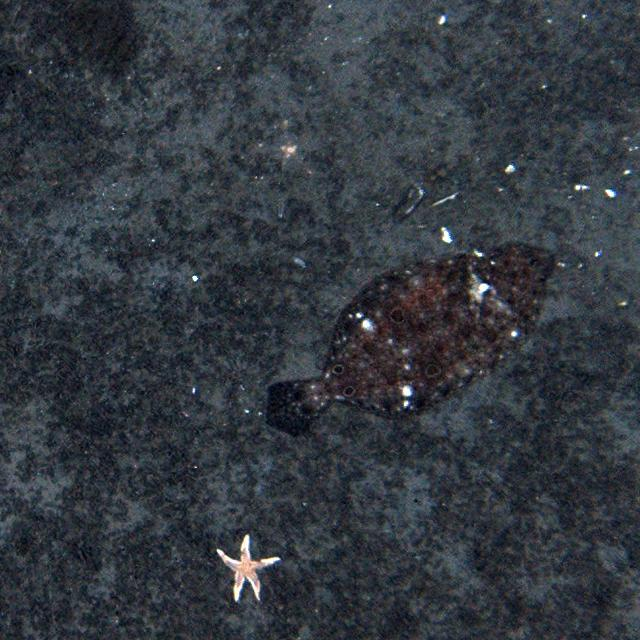flatfish: (252, 238, 558, 444)
